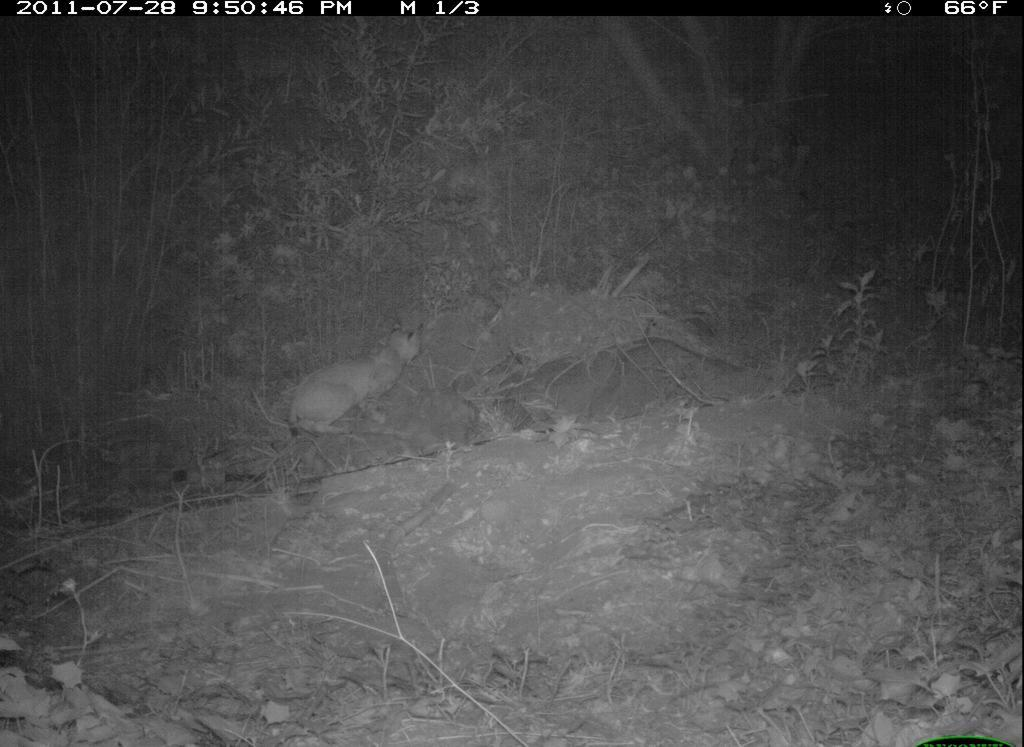bobcat: (267, 305, 437, 446)
